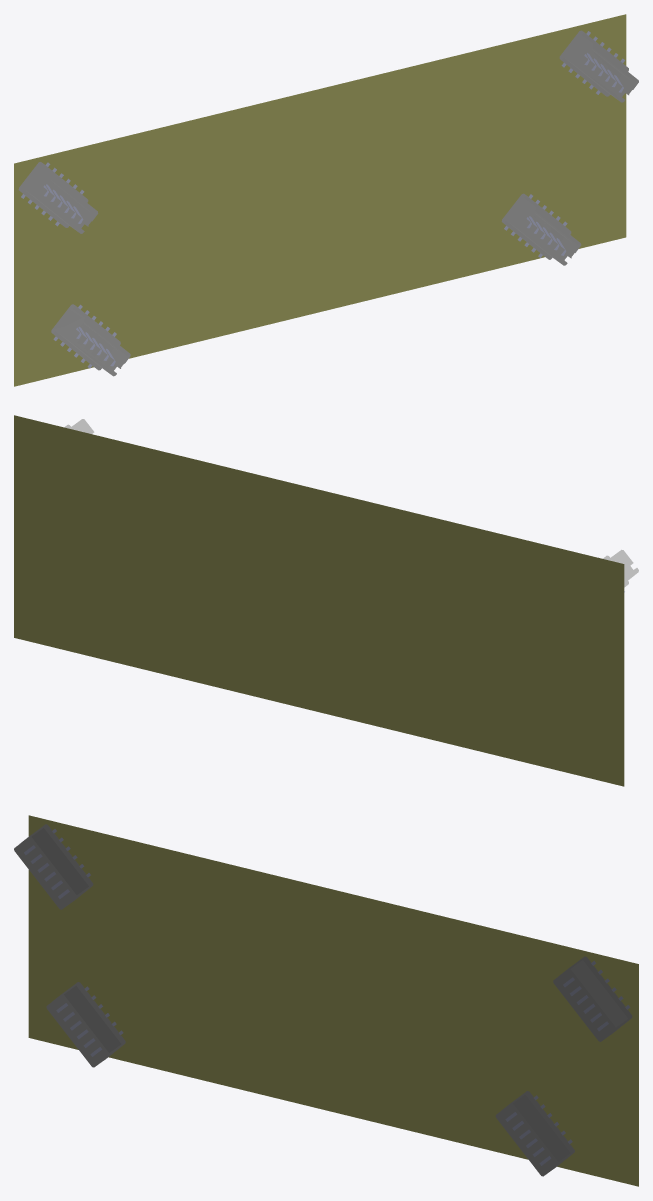
Rendered from OBJ_PCB_FMC Main 1.obj.
The picture shows the model from 3 angles, top to bottom: view 1: azimuth 30°, elevation 25°; view 2: azimuth 150°, elevation 25°; view 3: azimuth 330°, elevation 25°; orthographic projection.
Size of the model in its own units: 499 by 174 by 25.08.
